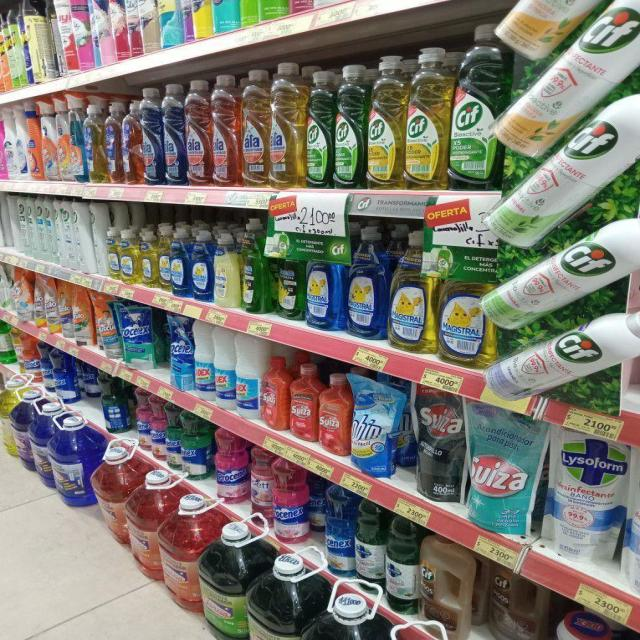ala_conc_amarillo: (271, 62, 305, 188), (241, 68, 270, 188)
ala_conc_azul: (163, 82, 185, 186), (142, 86, 162, 186)
ala_conc_rojo: (212, 74, 240, 187), (186, 78, 211, 187)
cif_conc_bot_amarilla: (404, 46, 448, 189), (367, 54, 404, 190)
cif_conc_botella_verde: (449, 24, 499, 191), (334, 63, 366, 189), (306, 67, 332, 188)
magistral_con_amarillo: (389, 228, 433, 352), (438, 281, 484, 367), (120, 228, 140, 284), (141, 228, 158, 288), (159, 225, 170, 291), (107, 228, 120, 280)
magistral_con_azul: (347, 225, 387, 340), (190, 230, 212, 301), (171, 228, 190, 297)
magistral_con_crema: (214, 230, 240, 308)
